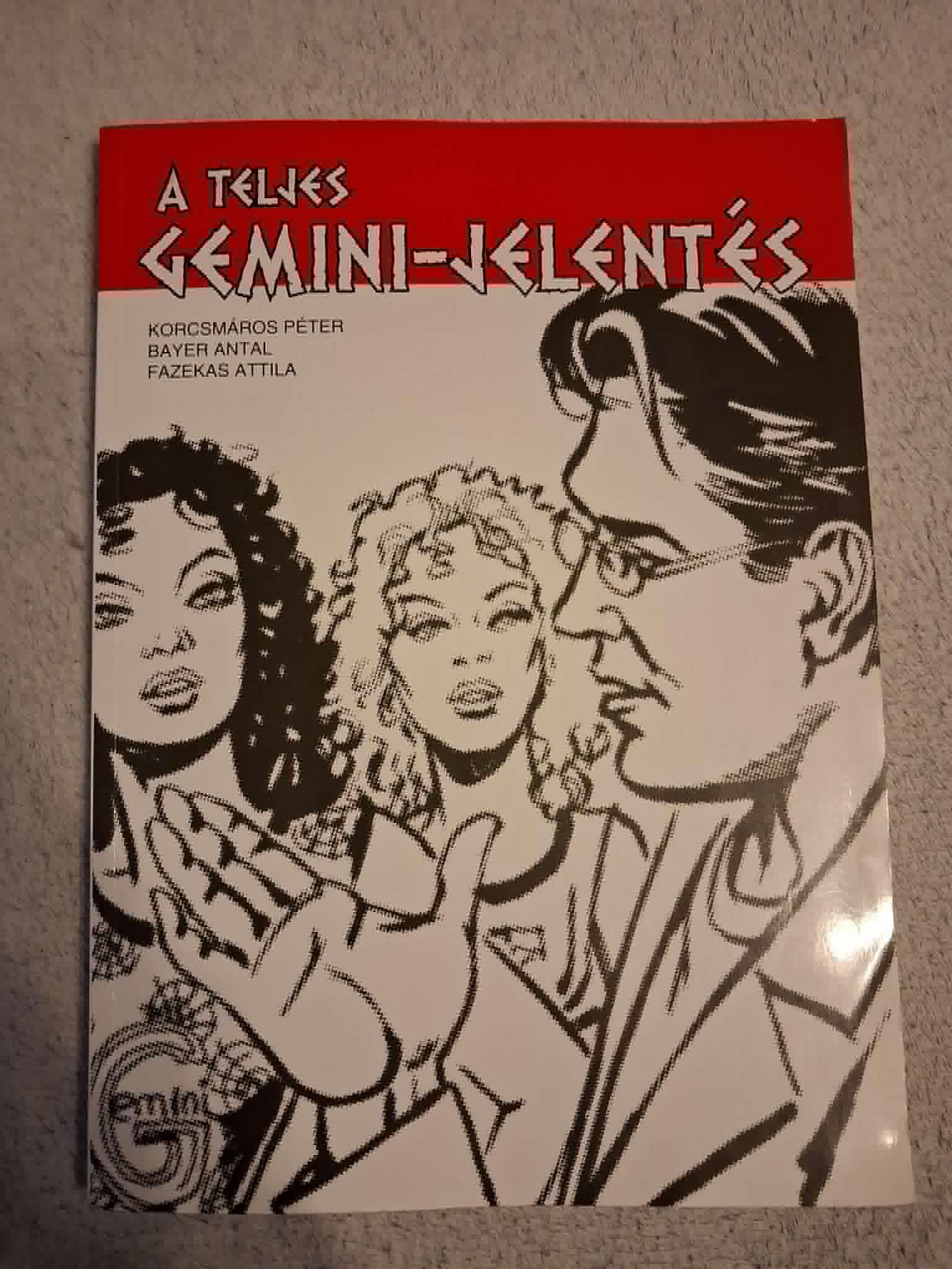comic: (86, 121, 912, 1212)
